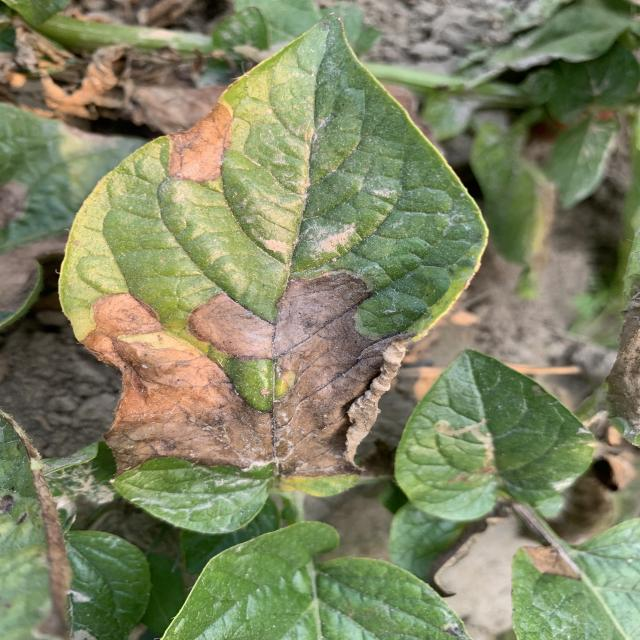lateblight: (188, 271, 410, 476), (82, 292, 273, 474), (168, 101, 233, 182), (523, 546, 580, 580)
